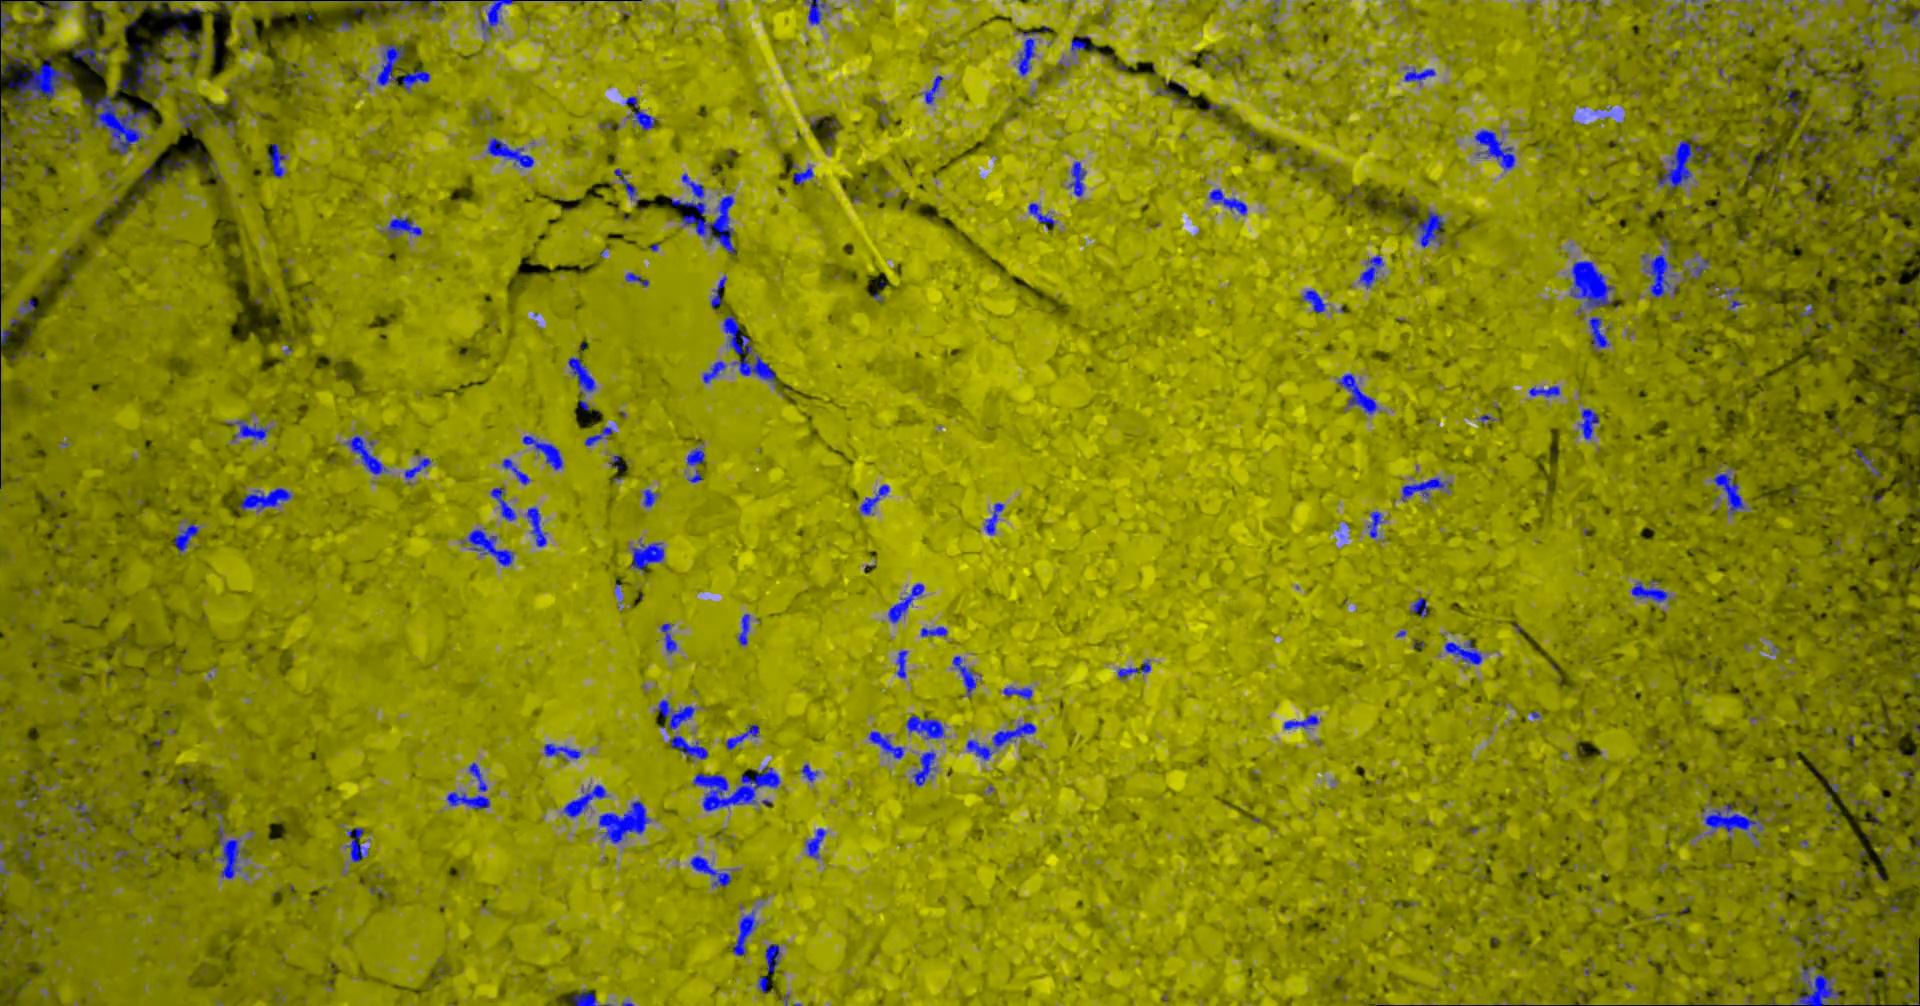ant: (376, 43, 429, 91), (1656, 138, 1702, 194), (1790, 956, 1839, 1005), (598, 800, 650, 843), (446, 762, 489, 809), (116, 51, 163, 93), (1703, 803, 1763, 833), (469, 528, 514, 567), (216, 826, 248, 878), (345, 434, 387, 474), (1337, 373, 1377, 414), (1641, 254, 1677, 297), (1474, 130, 1514, 169), (1712, 467, 1743, 514), (71, 37, 113, 71), (563, 784, 606, 817), (888, 583, 923, 622), (522, 434, 563, 469), (486, 137, 533, 166), (237, 486, 291, 512), (690, 855, 731, 887), (655, 699, 695, 729), (481, 0, 516, 34), (1401, 478, 1450, 500), (731, 909, 756, 955), (992, 721, 1035, 747), (116, 0, 182, 17), (1416, 210, 1444, 246), (1444, 639, 1481, 667), (625, 95, 654, 130), (568, 357, 596, 392), (1771, 89, 1808, 116), (952, 655, 977, 696), (0, 0, 25, 38), (1884, 109, 1910, 147), (1208, 188, 1246, 213), (905, 714, 943, 739), (869, 730, 903, 758), (858, 484, 889, 514), (630, 542, 663, 570), (1017, 30, 1037, 75), (613, 168, 639, 203), (724, 724, 759, 749), (670, 735, 707, 760), (910, 749, 935, 786), (225, 419, 268, 439), (1630, 579, 1669, 602), (490, 486, 516, 520), (1359, 254, 1383, 288), (526, 506, 546, 546), (345, 827, 368, 862), (173, 523, 198, 553), (404, 457, 430, 484), (1029, 202, 1057, 227), (502, 459, 530, 484), (1855, 447, 1879, 476), (387, 216, 422, 236), (1589, 316, 1609, 351), (983, 502, 1003, 533), (265, 144, 284, 177), (1117, 659, 1150, 678), (543, 743, 582, 760), (141, 166, 166, 191), (1067, 161, 1084, 196), (1578, 408, 1597, 439), (571, 989, 611, 1005), (805, 828, 825, 857), (348, 0, 385, 15), (702, 359, 726, 382), (0, 53, 22, 79), (966, 739, 993, 760), (584, 426, 612, 445), (37, 0, 69, 17), (1302, 290, 1324, 312), (804, 0, 825, 24), (710, 276, 726, 306), (924, 75, 942, 103), (1283, 715, 1318, 729), (1070, 36, 1097, 53), (75, 799, 93, 826), (179, 105, 201, 127), (660, 622, 676, 653), (0, 104, 10, 146), (1689, 257, 1709, 277), (397, 0, 433, 11), (1801, 130, 1829, 144), (17, 835, 30, 862), (764, 942, 778, 970), (1404, 69, 1435, 81), (737, 614, 749, 644), (1002, 686, 1032, 699), (1410, 596, 1427, 617), (1368, 511, 1382, 537), (1528, 385, 1559, 396), (792, 166, 813, 184), (171, 159, 190, 177), (800, 763, 818, 782), (623, 272, 648, 286), (686, 447, 703, 465), (18, 298, 34, 318), (824, 119, 839, 138), (919, 626, 947, 636), (897, 650, 907, 678), (173, 22, 188, 39), (757, 976, 772, 992), (643, 489, 657, 506), (0, 170, 13, 188), (1909, 9, 1919, 29), (66, 124, 77, 142), (608, 455, 622, 469), (0, 329, 10, 344)
